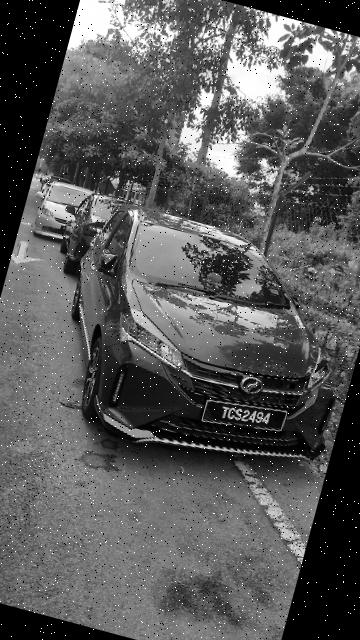License_Plate: (192, 389, 299, 446)
car: (35, 195, 360, 501)
